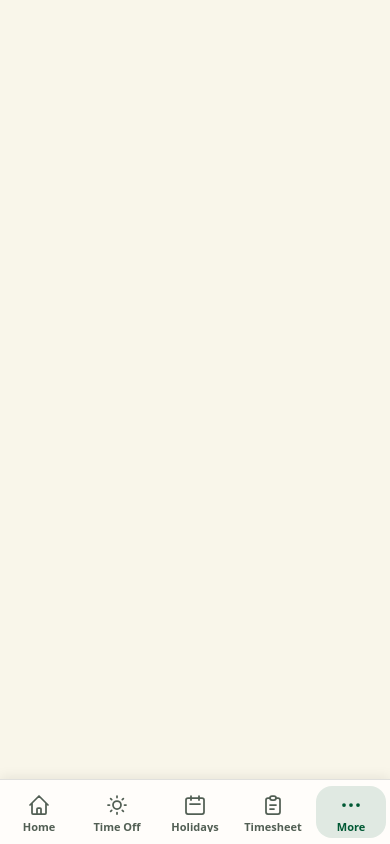
Test case: EmsMobileBottomNav › reaches an overflow section through More and reports it as current
Click the button "More".
click(351, 812)  # box top-left (316, 786), bottom-right (386, 838)
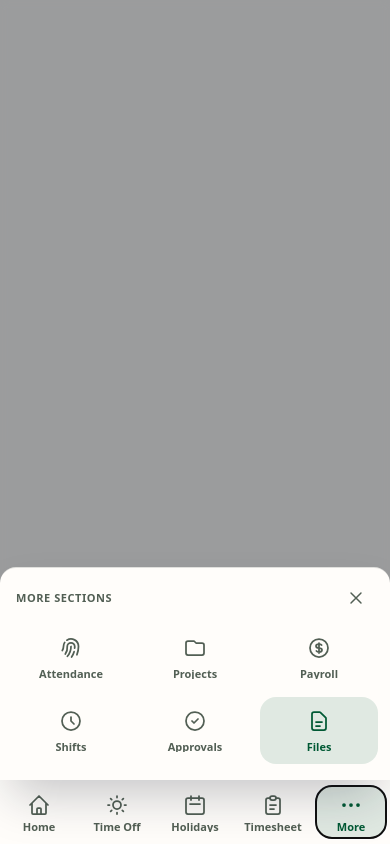
Click the button "Files".
click(319, 730)  # box top-left (260, 697), bottom-right (378, 764)
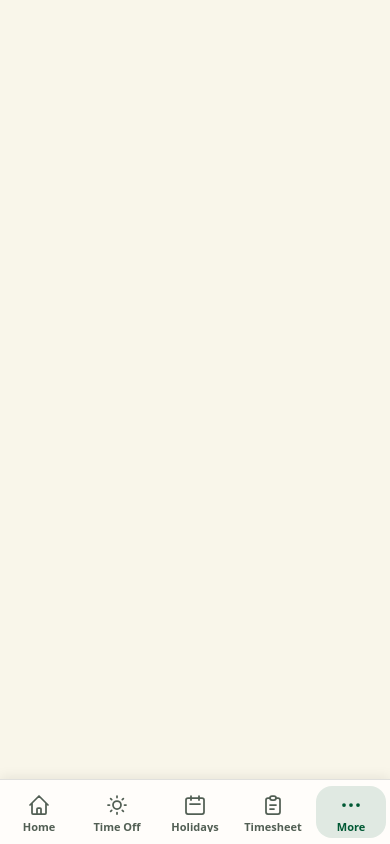
Now the dialog is gone
